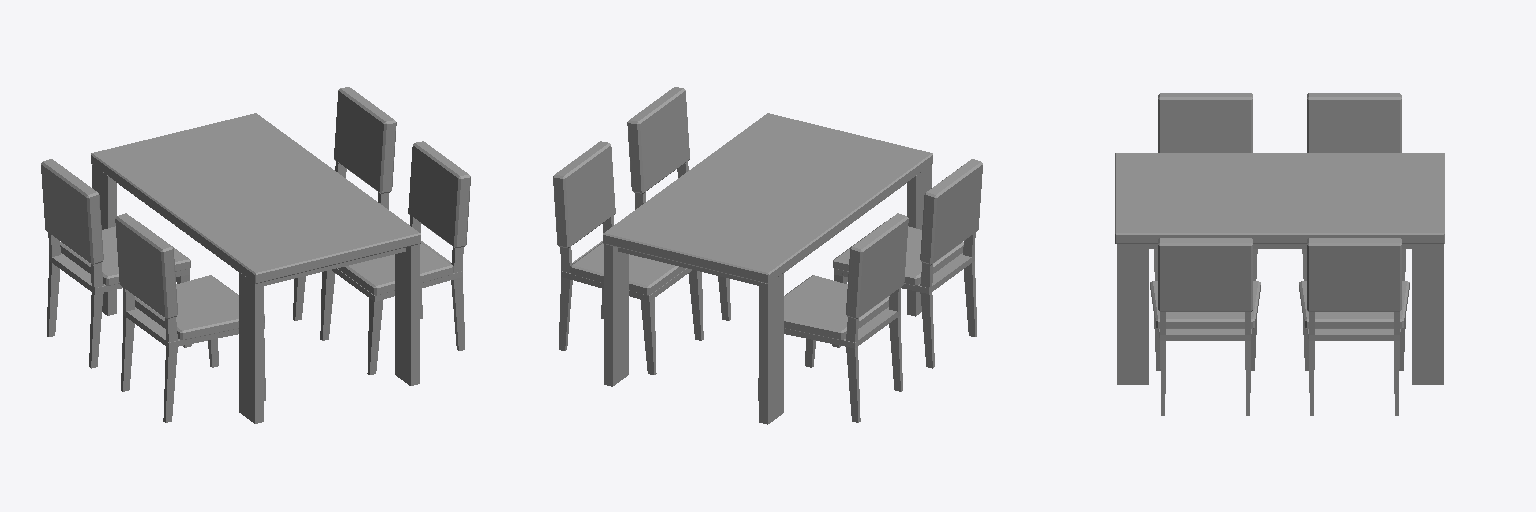
Rendered from DiningTable.obj.
3 views of the same model, side by side, from view 1: azimuth 30°, elevation 25°; view 2: azimuth 150°, elevation 25°; view 3: azimuth 270°, elevation 25° (orthographic).
Parts seen in each view (by area): view 1: Minimalistic_Table_Body, Null_Chair_3_Foam1, Null_Chair_4_Foam3, Null_Chair_2_Foam5, Null_Chair_1_Foam4, Null_Chair_1_Foam_11, Minimalistic_Table_Leg, Minimalistic_Table_Leg_1, Null_Chair_3_Foam_14, Null_Chair_2_Foam_1, Minimalistic_Table_Leg_2, Null_Chair_1_Body5 (+10 smaller); view 2: Minimalistic_Table_Body, Null_Chair_4_Foam3, Null_Chair_3_Foam1, Null_Chair_1_Foam4, Null_Chair_2_Foam5, Null_Chair_2_Foam_1, Minimalistic_Table_Leg_2, Minimalistic_Table_Leg_3, Null_Chair_4_Foam_12, Null_Chair_1_Foam_11, Minimalistic_Table_Leg, Null_Chair_2_Body1 (+10 smaller); view 3: Minimalistic_Table_Body, Null_Chair_3_Foam1, Null_Chair_4_Foam3, Null_Chair_2_Foam5, Null_Chair_1_Foam4, Minimalistic_Table_Leg_3, Minimalistic_Table_Leg_1, Null_Chair_3_Foam_14, Null_Chair_4_Foam_12, Null_Chair_3_Body3, Null_Chair_4_Body6.
Boxes of the visible parts, x1=… form: Minimalistic_Table_Body: x1=91, y1=113, x2=420, y2=283; Null_Chair_3_Foam1: x1=408, y1=141, x2=470, y2=247; Null_Chair_4_Foam3: x1=334, y1=87, x2=396, y2=193; Null_Chair_2_Foam5: x1=41, y1=159, x2=103, y2=264; Null_Chair_1_Foam4: x1=115, y1=213, x2=177, y2=318; Null_Chair_1_Foam_11: x1=134, y1=275, x2=264, y2=339; Minimalistic_Table_Leg: x1=239, y1=272, x2=263, y2=423; Minimalistic_Table_Leg_1: x1=395, y1=244, x2=419, y2=385; Null_Chair_3_Foam_14: x1=338, y1=242, x2=453, y2=295; Null_Chair_2_Foam_1: x1=60, y1=222, x2=190, y2=285; Minimalistic_Table_Leg_2: x1=92, y1=165, x2=116, y2=315; Null_Chair_1_Body5: x1=123, y1=307, x2=264, y2=348; Minimalistic_Table_Body: x1=603, y1=113, x2=932, y2=283; Null_Chair_4_Foam3: x1=553, y1=141, x2=615, y2=247; Null_Chair_3_Foam1: x1=627, y1=87, x2=689, y2=193; Null_Chair_1_Foam4: x1=920, y1=159, x2=982, y2=264; Null_Chair_2_Foam5: x1=846, y1=213, x2=908, y2=318; Null_Chair_2_Foam_1: x1=784, y1=275, x2=889, y2=339; Minimalistic_Table_Leg_2: x1=759, y1=273, x2=783, y2=424; Minimalistic_Table_Leg_3: x1=604, y1=244, x2=628, y2=386; Null_Chair_4_Foam_12: x1=570, y1=242, x2=685, y2=295; Null_Chair_1_Foam_11: x1=833, y1=222, x2=963, y2=285; Minimalistic_Table_Leg: x1=907, y1=165, x2=931, y2=316; Null_Chair_2_Body1: x1=784, y1=307, x2=900, y2=348; Minimalistic_Table_Body: x1=1115, y1=153, x2=1444, y2=243; Null_Chair_3_Foam1: x1=1158, y1=238, x2=1252, y2=311; Null_Chair_4_Foam3: x1=1307, y1=238, x2=1401, y2=311; Null_Chair_2_Foam5: x1=1307, y1=93, x2=1401, y2=152; Null_Chair_1_Foam4: x1=1158, y1=93, x2=1252, y2=152; Minimalistic_Table_Leg_3: x1=1412, y1=244, x2=1443, y2=384; Minimalistic_Table_Leg_1: x1=1117, y1=244, x2=1148, y2=384; Null_Chair_3_Foam_14: x1=1150, y1=281, x2=1260, y2=328; Null_Chair_4_Foam_12: x1=1299, y1=281, x2=1409, y2=328; Null_Chair_3_Body3: x1=1158, y1=329, x2=1252, y2=340; Null_Chair_4_Body6: x1=1307, y1=329, x2=1401, y2=340.
Bounding box in the file's own units: 2.29 × 1.25 × 2.11.